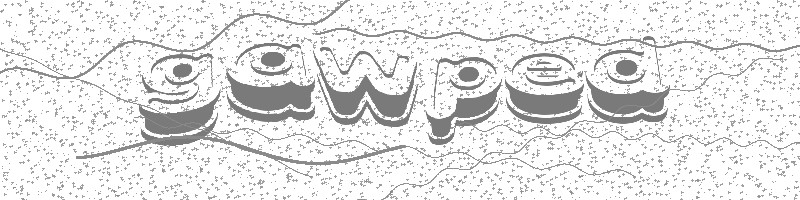a: (222, 37, 320, 123)
d: (585, 34, 669, 125)
e: (504, 52, 585, 125)
g: (134, 48, 224, 148)
p: (423, 50, 500, 148)
w: (312, 44, 419, 131)
